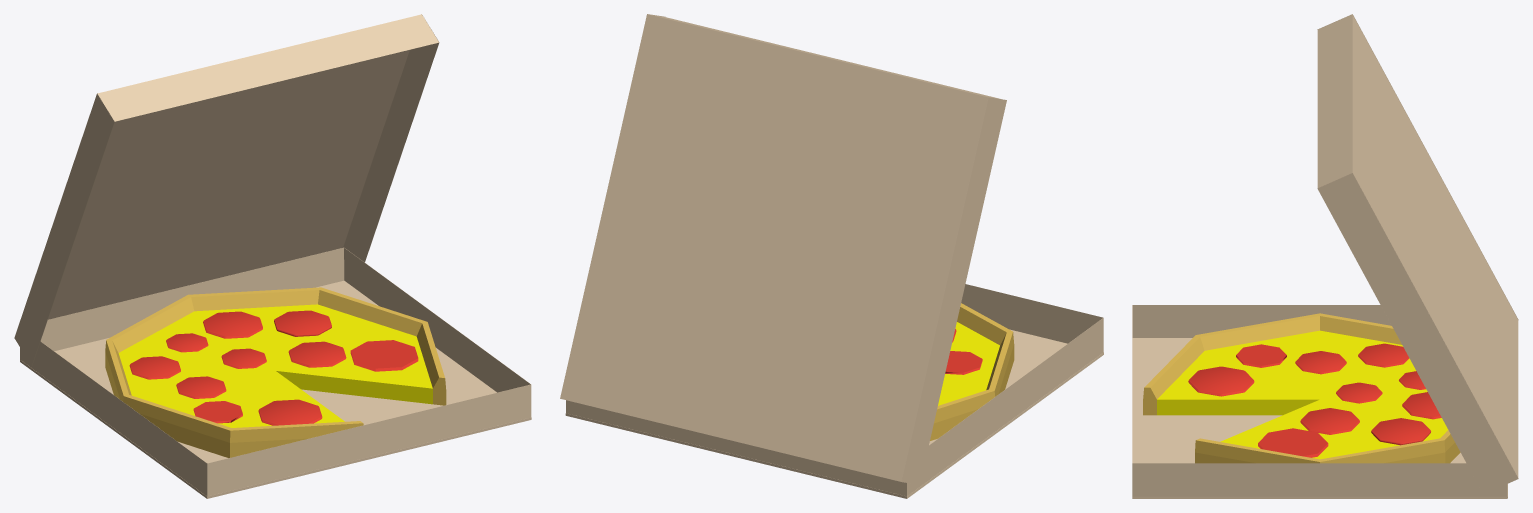
File: rgr-pizza.fbx
3 views of the same model, side by side, from view 1: azimuth 30°, elevation 25°; view 2: azimuth 150°, elevation 25°; view 3: azimuth 270°, elevation 25° (orthographic). The views are drawn at different scales.
Parts seen in each view (by area): view 1: Pizza; view 2: Pizza; view 3: Pizza.
Boxes of the visible parts, x1=… form: Pizza: x1=14, y1=14, x2=531, y2=498; Pizza: x1=560, y1=14, x2=1103, y2=498; Pizza: x1=1132, y1=14, x2=1518, y2=498.
Size of the model in its own units: 58.11 by 55.62 by 59.71.
